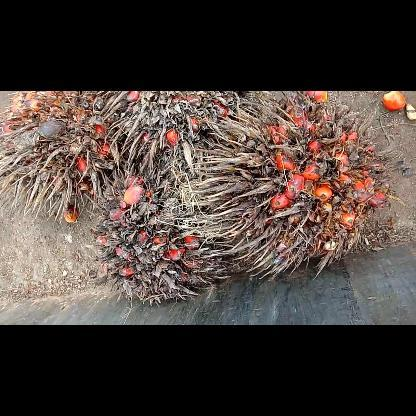Terlalu masak: (187, 91, 395, 283), (90, 148, 250, 310), (0, 91, 132, 230), (99, 91, 250, 179)
